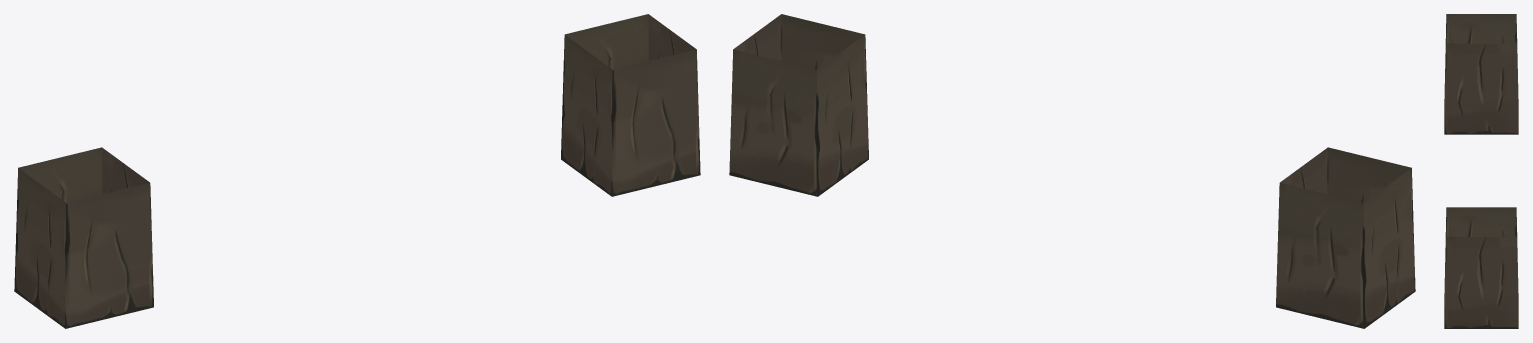
Rendered from polysurface580_txt_ptitruc_0_lev1_lev2.glb.
The picture shows the model from 3 angles, left to right: view 1: azimuth 30°, elevation 25°; view 2: azimuth 150°, elevation 25°; view 3: azimuth 270°, elevation 25°; orthographic projection. The views are drawn at different scales.
Visible parts, largest first — view 1: polysurface580_txt_ptitruc_0_lev1_lev2; view 2: polysurface580_txt_ptitruc_0_lev1_lev2; view 3: polysurface580_txt_ptitruc_0_lev1_lev2.
Part boxes in pixels (<box>): polysurface580_txt_ptitruc_0_lev1_lev2: <box>14,14,700,328</box>; polysurface580_txt_ptitruc_0_lev1_lev2: <box>729,14,1415,328</box>; polysurface580_txt_ptitruc_0_lev1_lev2: <box>1444,14,1518,328</box>.
Size of the model in its own units: 4.45 by 0.8402 by 0.6209.
Materials: 1 (1 with a texture image).
